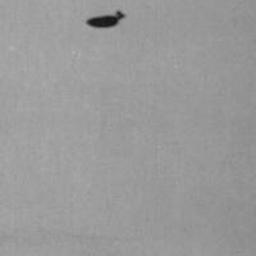Inclusion: (87, 10, 125, 28)
